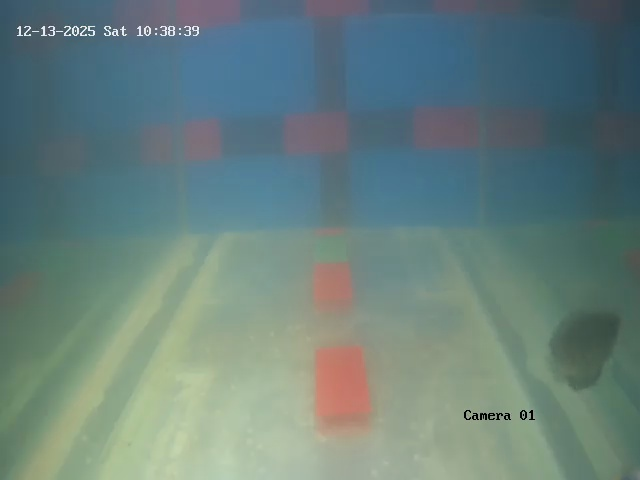fish: (547, 306, 617, 389)
